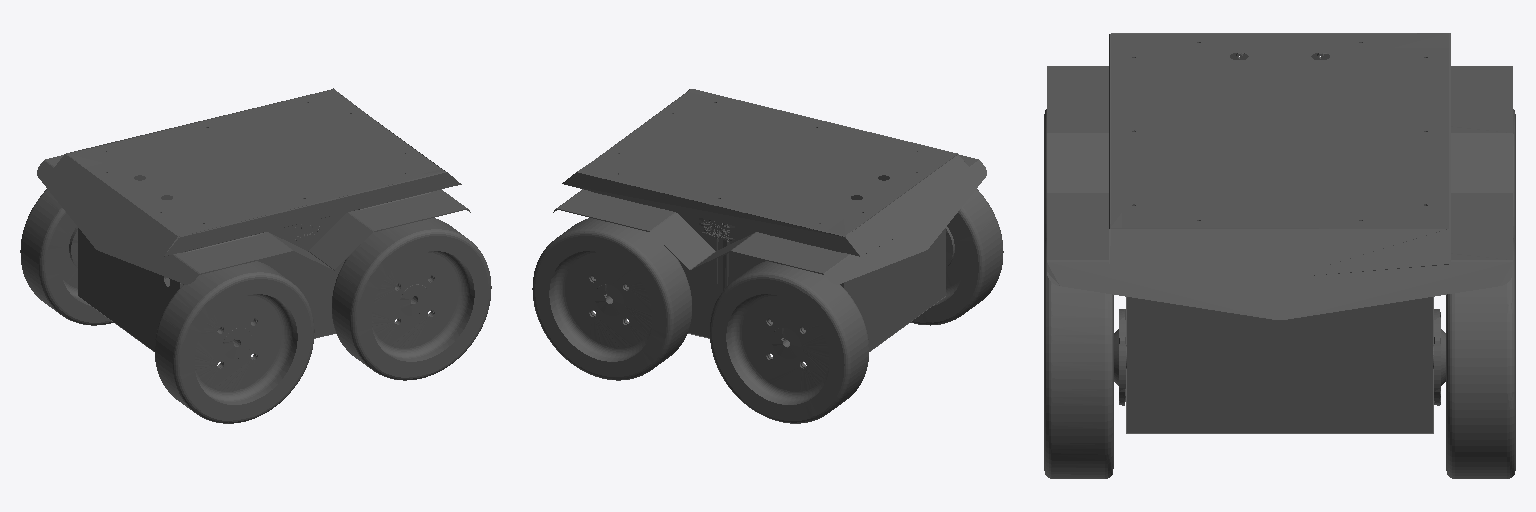
robot.urdf — amr_description:
<?xml version="1.0" ?>
<robot name="amr_description">

<!-- Init colour -->
<material name="black">
<color rgba="0.0 0.0 0.0 1.0"/>
</material>

<material name="dark">
<color rgba="0.3 0.3 0.3 1.0"/>
</material>

<material name="light_black">
<color rgba="0.4 0.4 0.4 1.0"/>
</material>

<material name="blue">
<color rgba="0.0 0.0 0.8 1.0"/>
</material>

<material name="green">
<color rgba="0.0 0.8 0.0 1.0"/>
</material>

<material name="grey">
<color rgba="0.5 0.5 0.5 1.0"/>
</material>

<material name="orange">
<color rgba="1.0 0.4235 0.0392 1.0"/>
</material>

<material name="brown">
<color rgba="0.8706 0.8118 0.7647 1.0"/>
</material>

<material name="red">
<color rgba="0.8 0.0 0.0 1.0"/>
</material>

<material name="white">
<color rgba="1.0 1.0 1.0 1.0"/>
</material>

<link name="base_footprint"/>
  <joint name="base_joint" type="fixed">
    <parent link="base_footprint"/>
    <child link="base_link" />
    <origin xyz="0 0 0.010" rpy="0 0 0"/>
  </joint>

  <link name="base_link">
    <visual>
      <origin
        xyz="-0.35 -0.3 0"
        rpy="0 0 0" />
      <geometry>
        <mesh
          filename="package://amr_description/meshes/DGT-001M.STL"/>
      </geometry>
      <material name="light_black"/>
    </visual>
	<collision>
      <origin xyz="-0.064 0 0.047" rpy="0 0 0"/>
      <geometry>
        <box size="0.266 0.266 0.094"/>
      </geometry>
    </collision>
    
    <inertial>
      <origin xyz="0 0 0" rpy="0 0 0"/>
      <mass value="1.3729096e+00"/>
      <inertia ixx="8.7002718e-03" ixy="-4.7576583e-05" ixz="1.1160499e-04"
               iyy="8.6195418e-03" iyz="-3.5422299e-06"
               izz="1.4612727e-02" />
    </inertial>
  </link>

  <joint name="wheel_left_joint" type="continuous">
    <parent link="base_link"/>
    <child link="wheel_left_link"/>
    <origin xyz="0.0 0.144 0.023" rpy="-1.57 0 0"/>
    <axis xyz="0 0 1"/>
  </joint>

  <link name="wheel_left_link">
    <visual>
      <origin xyz="0 0 0" rpy="1.57 0 0"/>
      <geometry>
        <mesh filename="package://amr_description/meshes/wheels/left_tire.stl" scale="0.001 0.001 0.001"/>
      </geometry>
      <material name="dark"/>
    </visual>

    <collision>
      <origin xyz="0 0 0" rpy="0 0 0"/>
      <geometry>
        <cylinder length="0.018" radius="0.033"/>
      </geometry>
    </collision>

    <inertial>
      <origin xyz="0 0 0" />
      <mass value="2.8498940e-02" />
      <inertia ixx="1.1175580e-05" ixy="-4.2369783e-11" ixz="-5.9381719e-09"
               iyy="1.1192413e-05" iyz="-1.4400107e-11"
               izz="2.0712558e-05" />
      </inertial>
  </link>

  <joint name="wheel_right_joint" type="continuous">
    <parent link="base_link"/>
    <child link="wheel_right_link"/>
    <origin xyz="0.0 -0.144 0.023" rpy="-1.57 0 0"/>
    <axis xyz="0 0 1"/>
  </joint>

  <link name="wheel_right_link">
    <visual>
      <origin xyz="0 0 0" rpy="1.57 0 0"/>
      <geometry>
        <mesh filename="package://amr_description/meshes/wheels/right_tire.stl" scale="0.001 0.001 0.001"/>
      </geometry>
      <material name="dark"/>
    </visual>

    <collision>
      <origin xyz="0 0 0" rpy="0 0 0"/>
      <geometry>
        <cylinder length="0.018" radius="0.033"/>
      </geometry>
    </collision>

    <inertial>
      <origin xyz="0 0 0" />
      <mass value="2.8498940e-02" />
      <inertia ixx="1.1175580e-05" ixy="-4.2369783e-11" ixz="-5.9381719e-09"
               iyy="1.1192413e-05" iyz="-1.4400107e-11"
               izz="2.0712558e-05" />
      </inertial>
  </link>

  <joint name="caster_back_right_joint" type="fixed">
    <parent link="base_link"/>
    <child link="caster_back_right_link"/>
    <origin xyz="-0.177 -0.064 -0.004" rpy="-1.57 0 0"/>
  </joint>

  <link name="caster_back_right_link">
    <collision>
      <origin xyz="0 0.001 0" rpy="0 0 0"/>
      <geometry>
        <box size="0.030 0.009 0.020"/>
      </geometry>
    </collision>

    <inertial>
      <origin xyz="0 0 0" />
      <mass value="0.005" />
      <inertia ixx="0.001" ixy="0.0" ixz="0.0"
               iyy="0.001" iyz="0.0"
               izz="0.001" />
    </inertial>
  </link>

  <joint name="caster_back_left_joint" type="fixed">
    <parent link="base_link"/>
    <child link="caster_back_left_link"/>
    <origin xyz="-0.177 0.064 -0.004" rpy="-1.57 0 0"/>
  </joint>

  <link name="caster_back_left_link">
    <collision>
      <origin xyz="0 0.001 0" rpy="0 0 0"/>
      <geometry>
        <box size="0.030 0.009 0.020"/>
      </geometry>
    </collision>

    <inertial>
      <origin xyz="0 0 0" />
      <mass value="0.005" />
      <inertia ixx="0.001" ixy="0.0" ixz="0.0"
               iyy="0.001" iyz="0.0"
               izz="0.001" />
    </inertial>
  </link>
 <joint name="imu_joint" type="fixed">
    <parent link="base_link"/>
    <child link="imu_link"/>
    <origin xyz="0.0 0 0.068" rpy="0 0 0"/>
  </joint>

  <link name="imu_link"/>

  <joint name="scan_joint" type="fixed">
    <parent link="base_link"/>
    <child link="base_scan"/>
    <origin xyz="-0.064 0 0.122" rpy="0 0 3.14"/>
  </joint>

  <link name="base_scan">
    <visual>
      <origin xyz="0 0 0.7" rpy="0 0 0"/>
      <geometry>
        <mesh filename="package://amr_description/meshes/VLP16_scan.stl" scale="0.003 0.003 0.003"/>
      </geometry>
      <material name="dark"/>
    </visual>

    <collision>
      <origin xyz="0.015 0 -0.0065" rpy="0 0 0"/>
      <geometry>
        <cylinder length="0.0315" radius="0.055"/>
      </geometry>
    </collision>

    <inertial>
      <mass value="0.114" />
      <origin xyz="0 0 0" />
      <inertia ixx="0.001" ixy="0.0" ixz="0.0"
               iyy="0.001" iyz="0.0"
               izz="0.001" />
    </inertial>
  </link>

  <!-- REALSENSE D435 -->
  <sensor_d435 parent="base_link">
    <origin xyz="0.049 0.0 0.1795" rpy="0 0 0"/>
  </sensor_d435>

</robot>

--- What the picture shows (computed from the rendered views, not written in the file) ---
3 views of the same robot in one strip: view 1: azimuth 30°, elevation 25°; view 2: azimuth 150°, elevation 25°; view 3: azimuth 270°, elevation 25° (orthographic).
Robot: amr_description — 8 links, 7 joints (2 continuous, 5 fixed); root link base_footprint; default pose: every joint at zero.
Links seen in each view (by area): view 1: base_link; view 2: base_link; view 3: base_link.
Boxes of the visible links, x1=… form: base_link: x1=20, y1=88, x2=491, y2=423; base_link: x1=532, y1=89, x2=1003, y2=423; base_link: x1=1044, y1=33, x2=1515, y2=478.
Size in the robot's own frame: 0.6781 by 0.58 by 0.3706 metres.
Meshes: 4 distinct files referenced, 1 mesh visuals loaded (1 binary STL); not drawn: 3 (reference not matched to a file when rendering).